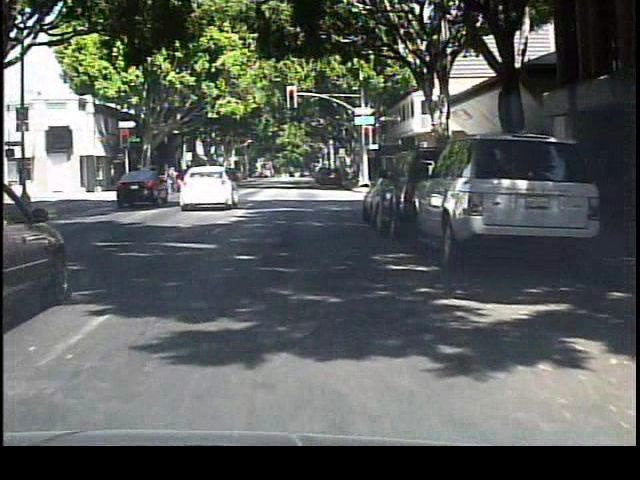person: (166, 162, 182, 202)
